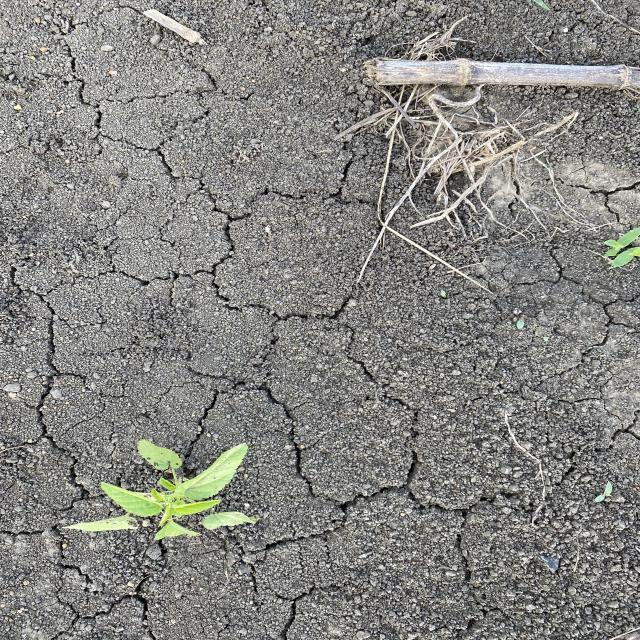PricklySida: (57, 434, 257, 544)
